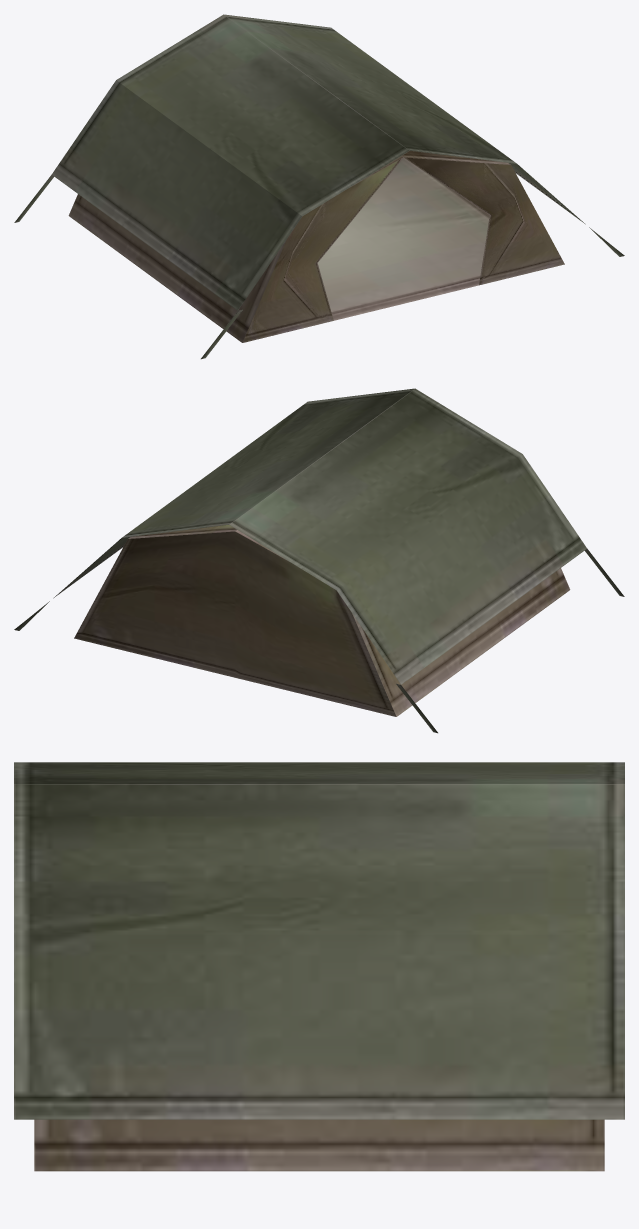
The model's file is na-tent5.dae.
3 renders of one model, top to bottom at view 1: azimuth 30°, elevation 25°; view 2: azimuth 150°, elevation 25°; view 3: azimuth 270°, elevation 25°, orthographic. The views are drawn at different scales.
Parts seen in each view (by area): view 1: S_cube_3_5, S_cube_6_8, S__1_12, S__2_11, S_cube_5_7; view 2: S_cube_3_5, S_cube_5_7; view 3: S_cube_3_5, S_cube_5_7.
Part boxes in pixels (bbox=[...]): S_cube_3_5: bbox=[52, 14, 585, 310]; S_cube_6_8: bbox=[318, 157, 489, 320]; S__1_12: bbox=[242, 158, 402, 342]; S__2_11: bbox=[404, 157, 564, 285]; S_cube_5_7: bbox=[68, 151, 510, 342]; S_cube_3_5: bbox=[53, 388, 586, 684]; S_cube_5_7: bbox=[74, 525, 570, 716]; S_cube_3_5: bbox=[14, 762, 624, 1119]; S_cube_5_7: bbox=[34, 1119, 604, 1171].
Bounding box in the file's own units: 0.79 × 0.28 × 0.6.
9 materials, 9 textured.
